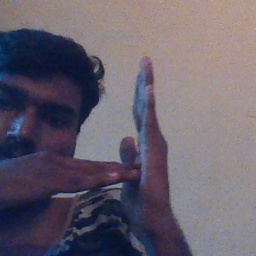Z: (65, 53, 184, 238)
